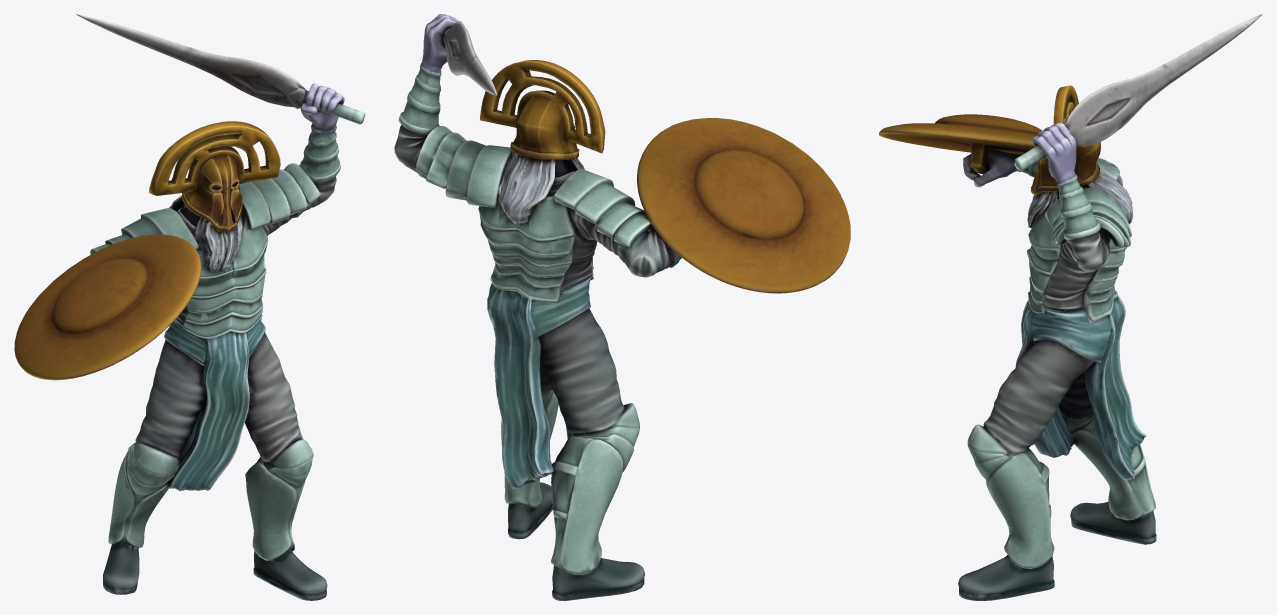
The model's file is MZ4250 - Storm Giant Male.glb.
3 renders of one model, left to right at view 1: azimuth 30°, elevation 25°; view 2: azimuth 150°, elevation 25°; view 3: azimuth 270°, elevation 25°, orthographic. The views are drawn at different scales.
Visible parts, largest first — view 1: Storm Giant Updated whole no stand.002; view 2: Storm Giant Updated whole no stand.002; view 3: Storm Giant Updated whole no stand.002.
Part boxes in pixels (left/top/right/bottom): Storm Giant Updated whole no stand.002: left=14, top=14, right=365, bottom=600; Storm Giant Updated whole no stand.002: left=394, top=14, right=850, bottom=600; Storm Giant Updated whole no stand.002: left=879, top=14, right=1262, bottom=600.
Bounding box in the file's own units: 5.25 × 7.12 × 4.68.
1 material, 1 textured.
